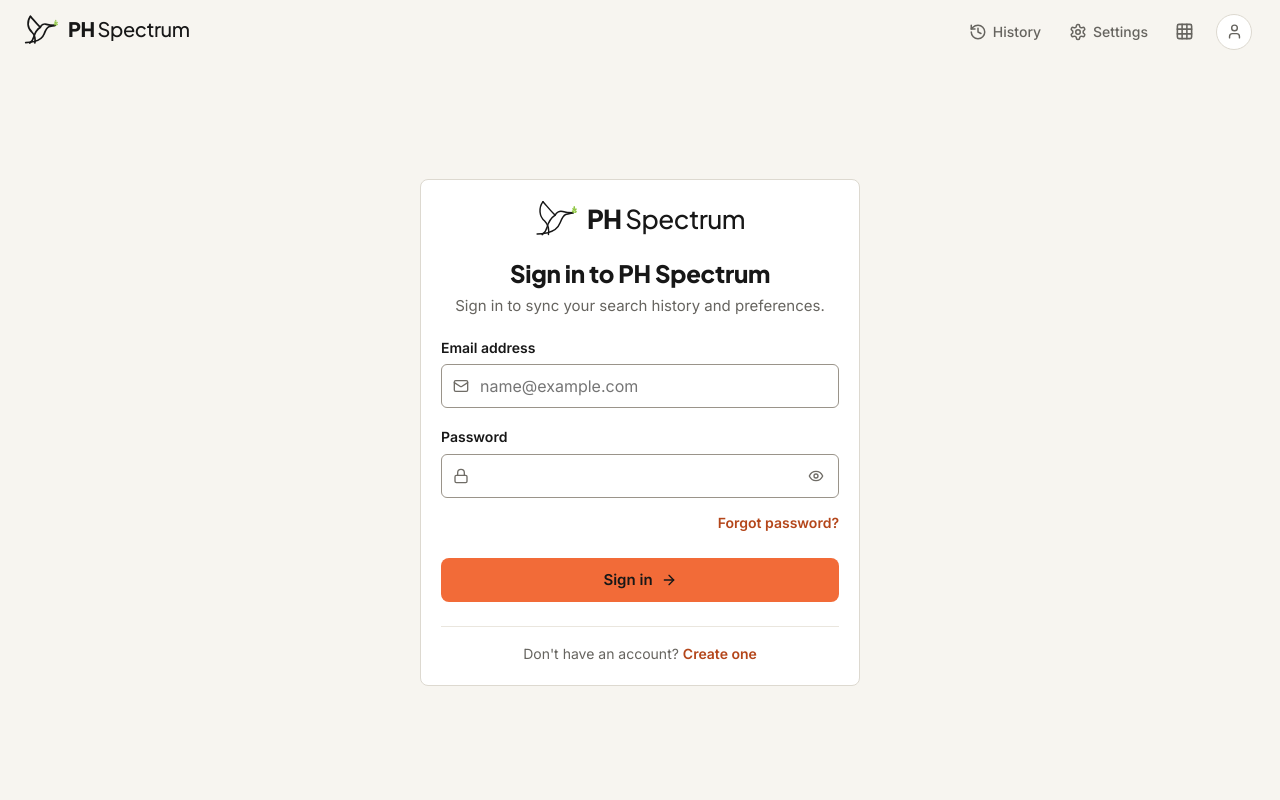
it: the sign-in form › shows the server’s error and stays on the page
Type "reader@example.com" into the field labelled "Email address" at {"x": 640, "y": 386}, box [441, 364, 839, 408]
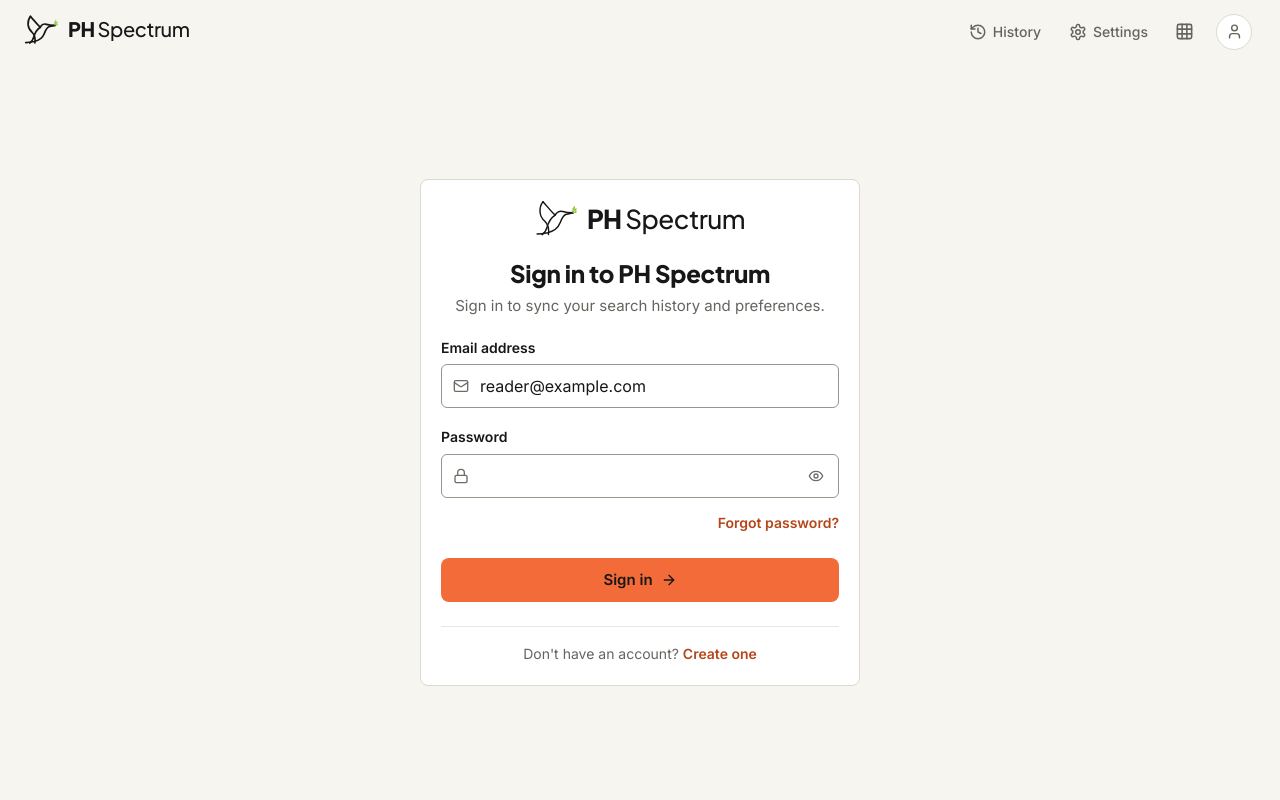
Type "wrong" into the password field labelled "Password" at {"x": 640, "y": 476}, box [441, 454, 839, 498]
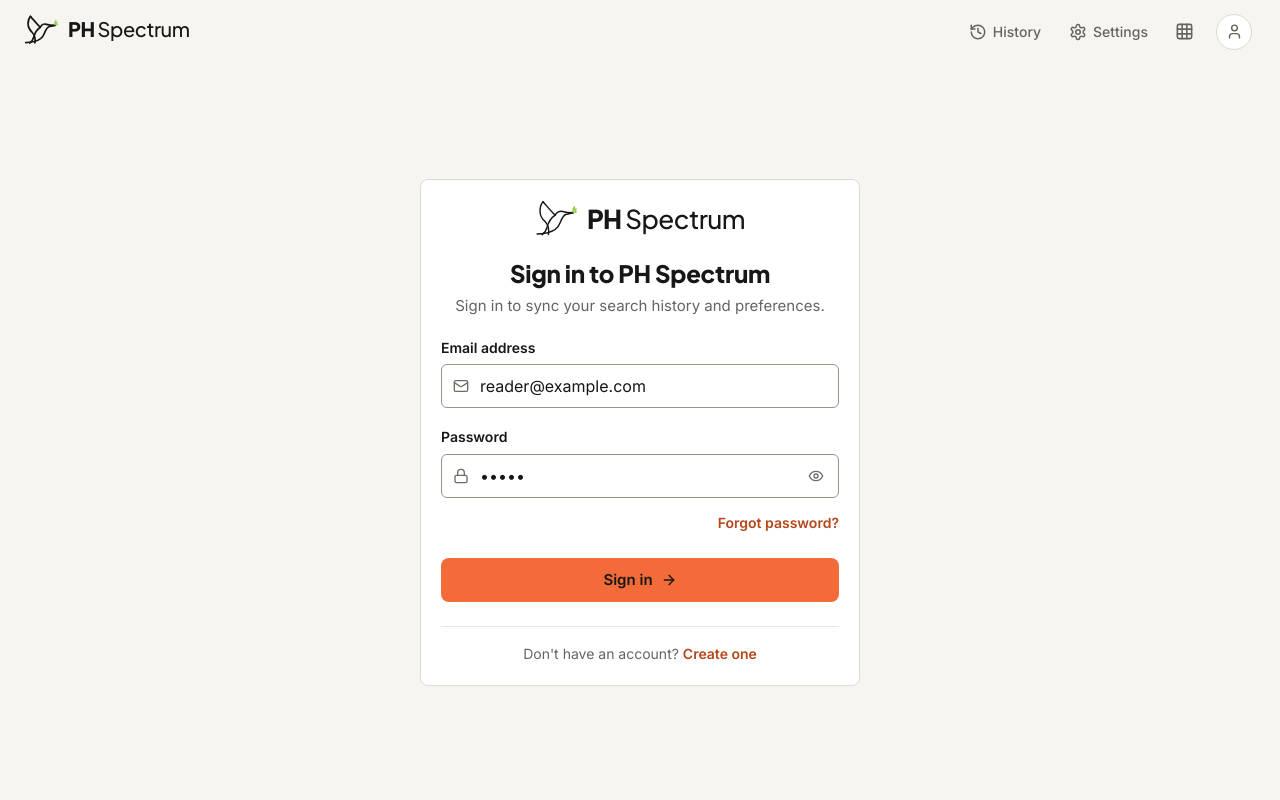
Click the button "Sign in" at {"x": 640, "y": 580}, box [441, 558, 839, 602]
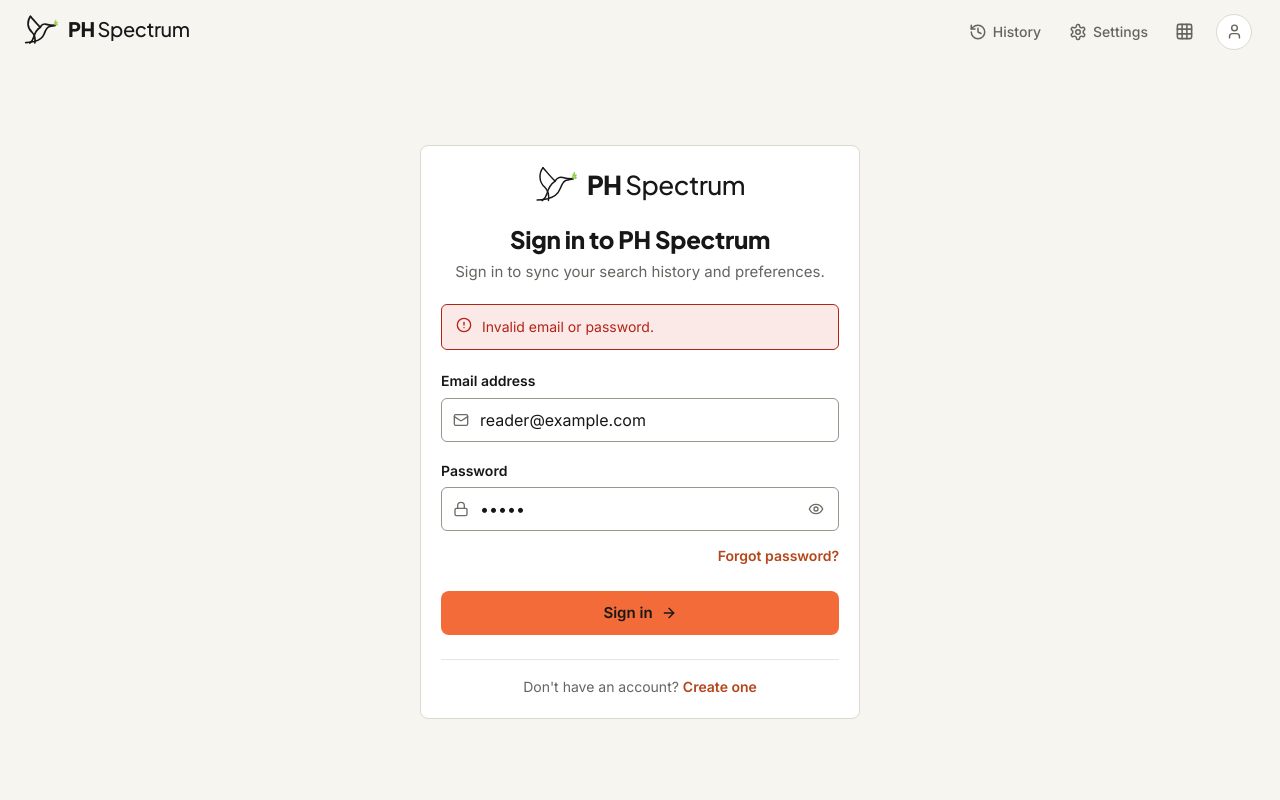
Expected: the button "Sign in" is enabled, [441, 591, 839, 635]
Result: the message reads "Invalid email or password." at [482, 318, 654, 335]
